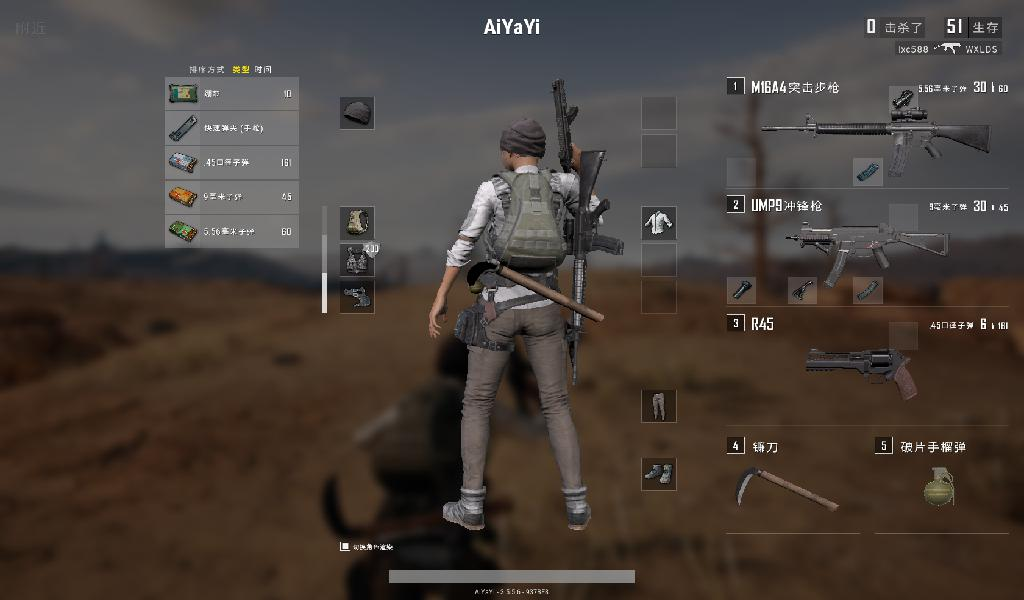Target Person: (428, 77, 626, 534)
